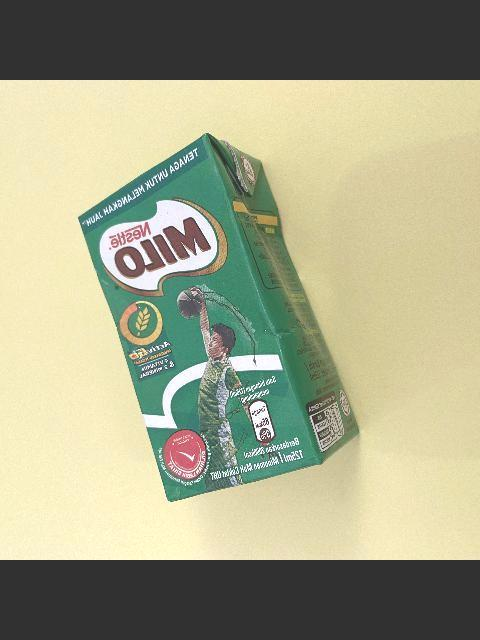drinkpack: (76, 134, 362, 502)
